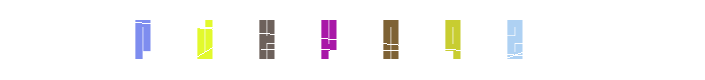J: (288, 0, 368, 80)
K: (289, 0, 369, 80)
N: (294, 0, 374, 80)
Q: (314, 0, 394, 80)
R: (137, 0, 217, 80)
V: (289, 0, 369, 80)
Z: (405, 0, 485, 80)
